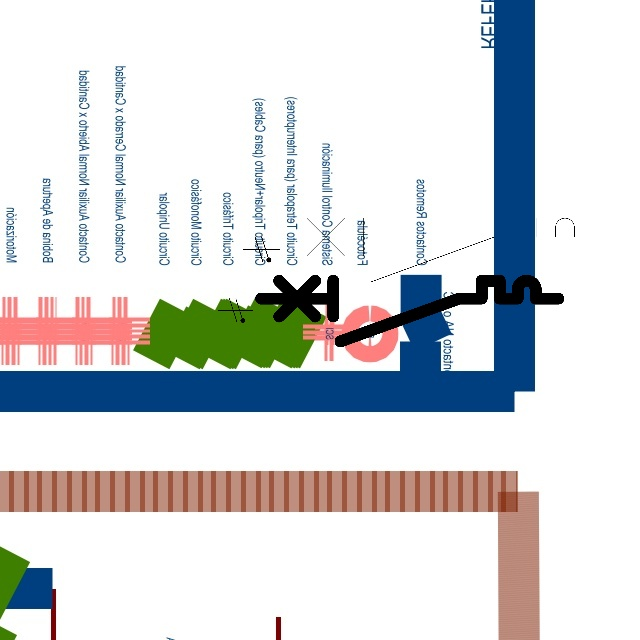interruptor_termomagnetico: (279, 210, 605, 290), (253, 273, 566, 349)
